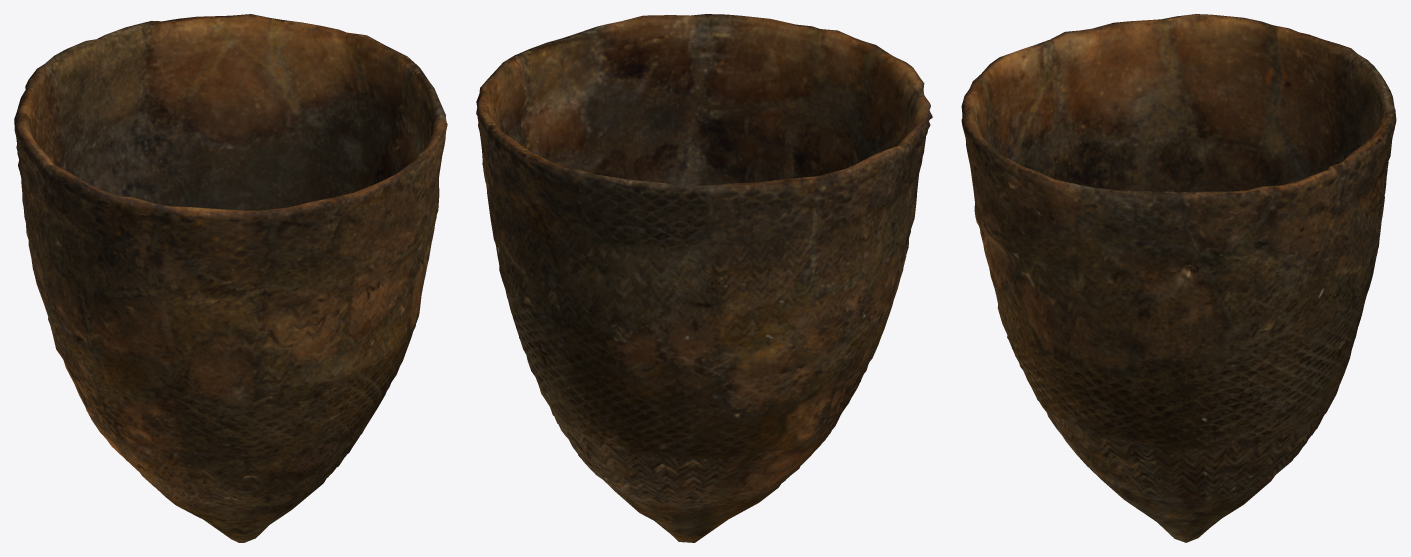
The picture shows the model from 3 angles, left to right: view 1: azimuth 30°, elevation 25°; view 2: azimuth 150°, elevation 25°; view 3: azimuth 270°, elevation 25°; orthographic projection. The views are drawn at different scales.
Parts seen in each view (by area): view 1: UK0001_low; view 2: UK0001_low; view 3: UK0001_low.
Boxes of the visible parts, x1,y1,x2,y2 form: UK0001_low: [14, 14, 447, 542]; UK0001_low: [476, 14, 932, 542]; UK0001_low: [961, 14, 1396, 542].
Size of the model in its own units: 211 by 234 by 212.
Materials: 1 (1 with a texture image).
